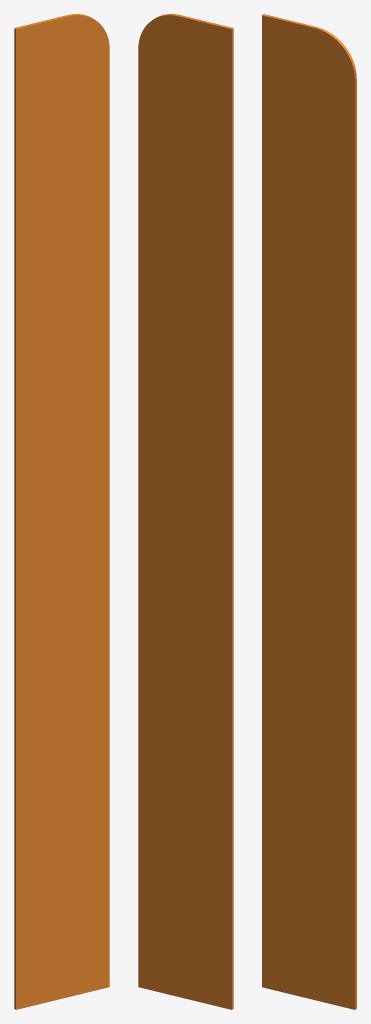
The model's file is orange-flare.obj.
3 renders of one model, left to right at view 1: azimuth 30°, elevation 25°; view 2: azimuth 150°, elevation 25°; view 3: azimuth 330°, elevation 25°, orthographic.
Parts seen in each view (by area): view 1: Entity2geometry; view 2: Entity2geometry; view 3: Entity2geometry.
Part boxes in pixels (x1,y1,x2,y2): Entity2geometry: [14, 14, 109, 1009]; Entity2geometry: [138, 14, 233, 1009]; Entity2geometry: [262, 14, 356, 1009].
Size of the model in its own units: 15 by 150 by 0.5.
